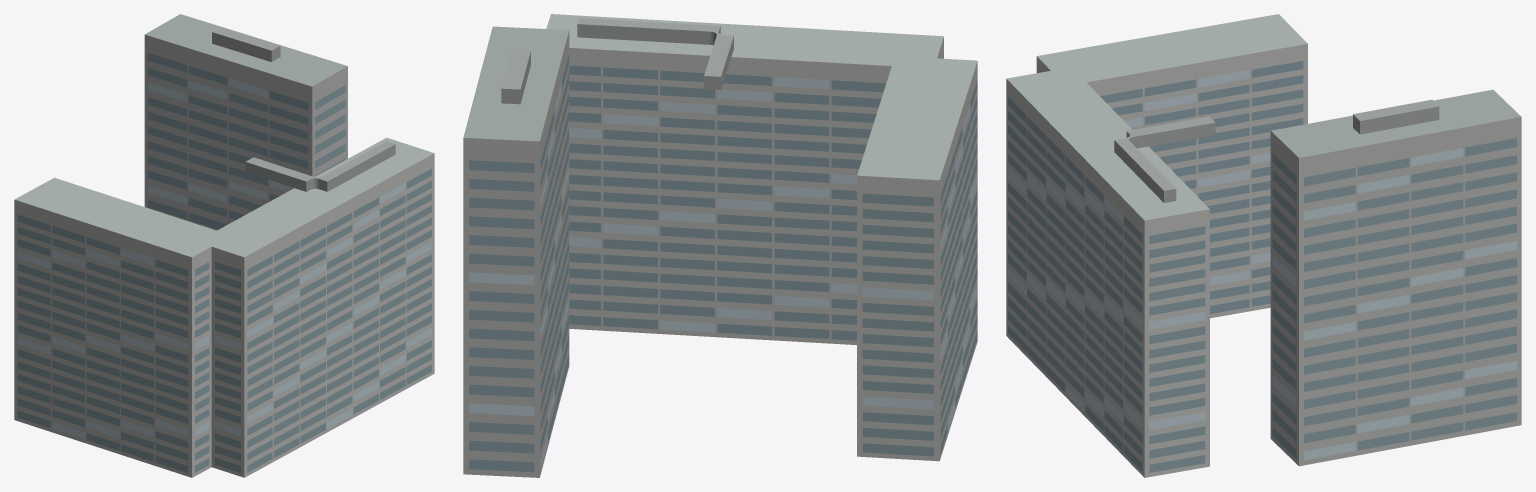
Rendered from apt-a13788203.glb.
The picture shows the model from 3 angles, left to right: view 1: azimuth 30°, elevation 25°; view 2: azimuth 150°, elevation 25°; view 3: azimuth 270°, elevation 25°; orthographic projection. The views are drawn at different scales.
Parts seen in each view (by area): view 1: apt-a13788203; view 2: apt-a13788203; view 3: apt-a13788203.
Boxes of the visible parts, bbox=[...] form: apt-a13788203: bbox=[14, 14, 434, 477]; apt-a13788203: bbox=[463, 14, 977, 477]; apt-a13788203: bbox=[1006, 14, 1521, 477].
Size of the model in its own units: 78.87 by 57.3 by 83.14.
